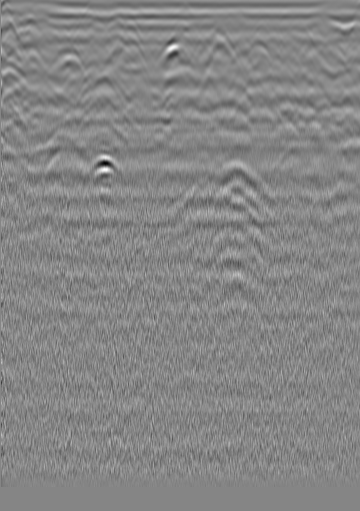가스: (75, 152, 126, 190)
상수: (315, 22, 335, 42)
오수: (37, 20, 57, 40)
우수: (191, 28, 211, 48)
